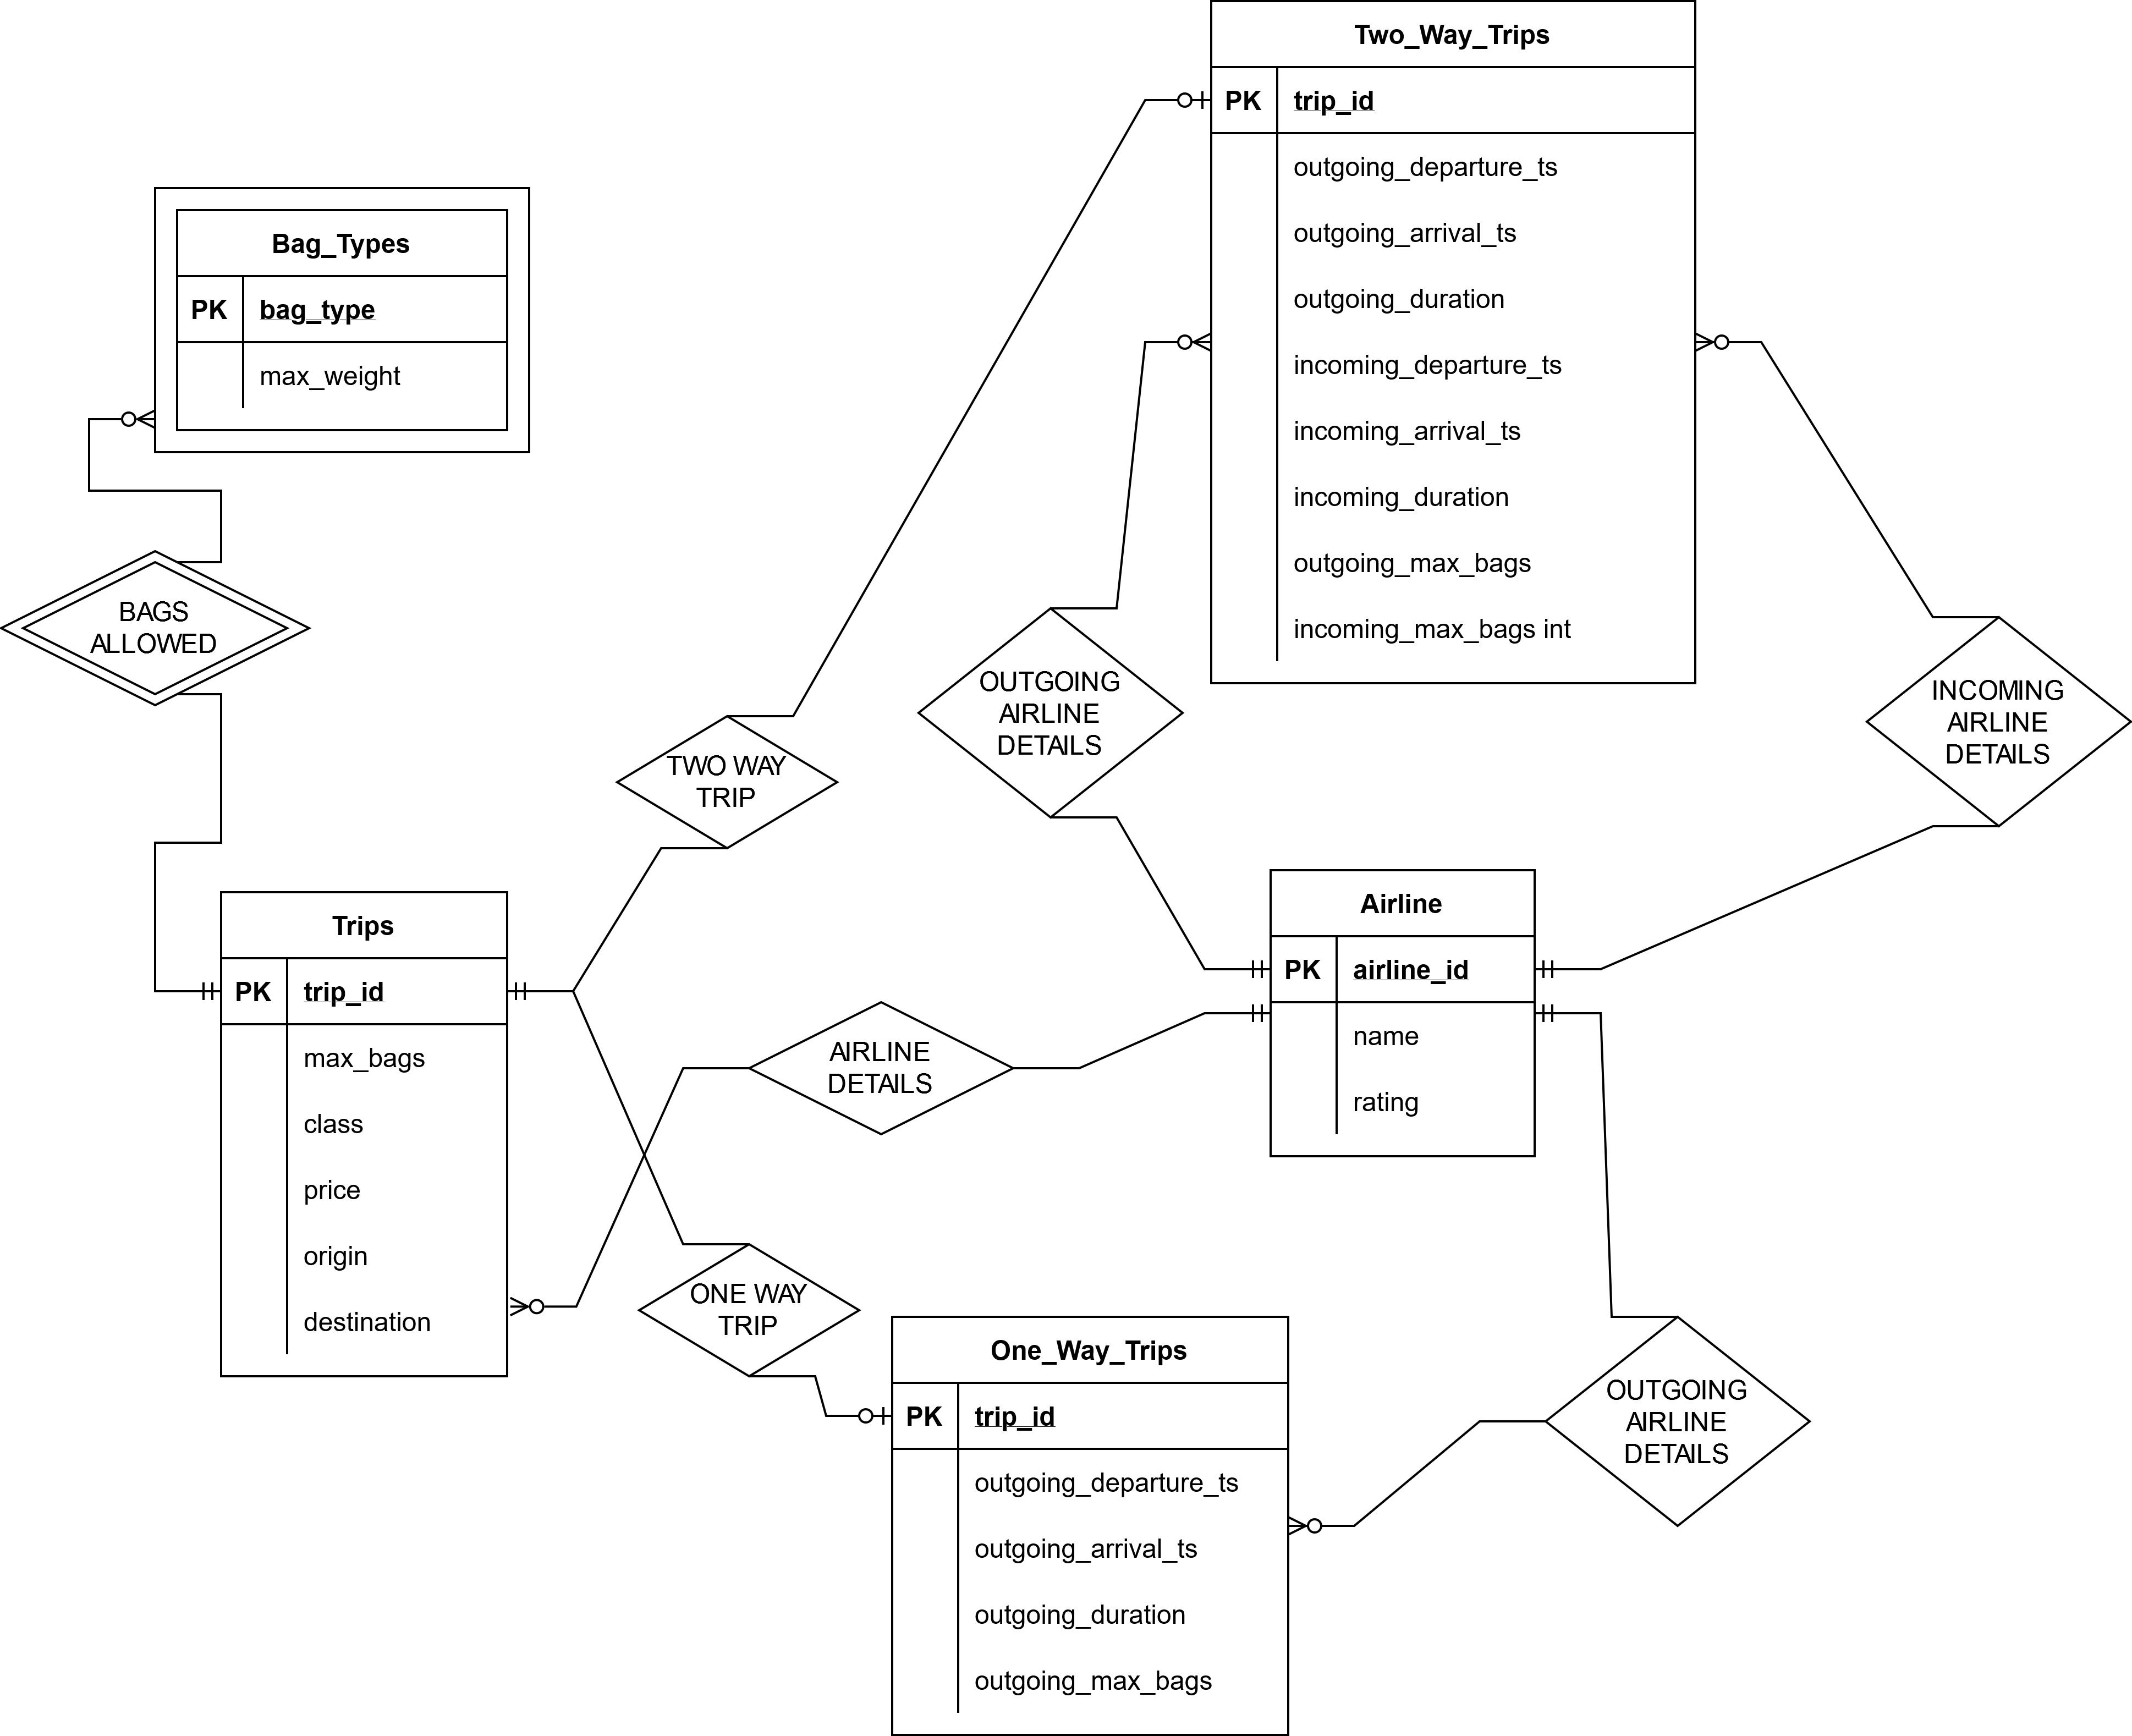entity: (1209, 0, 1700, 689), (896, 1311, 1293, 1736), (220, 891, 512, 1385), (1266, 864, 1539, 1162)
relationship: (917, 604, 1188, 822), (1872, 615, 2132, 833), (1544, 1320, 1813, 1527), (747, 1001, 1008, 1139), (613, 716, 836, 849), (637, 1245, 864, 1375)
weakentity: (149, 181, 533, 461)
weakrelationship: (5, 553, 310, 700)
